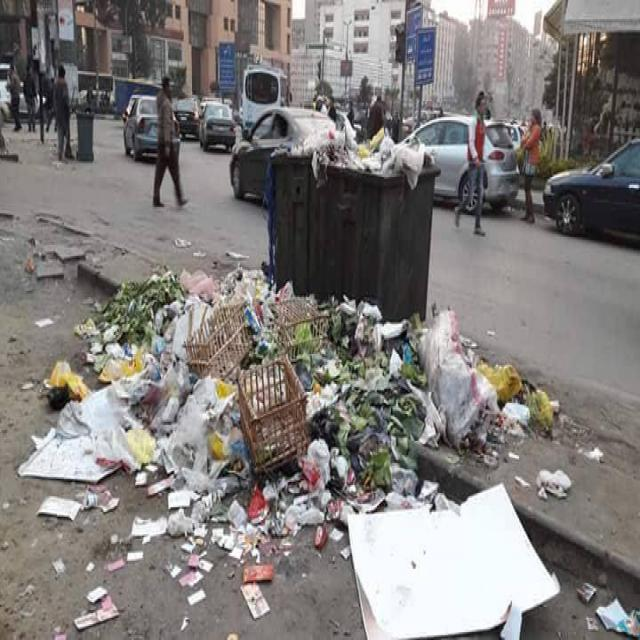garbage: (46, 266, 556, 578), (304, 116, 428, 186)
